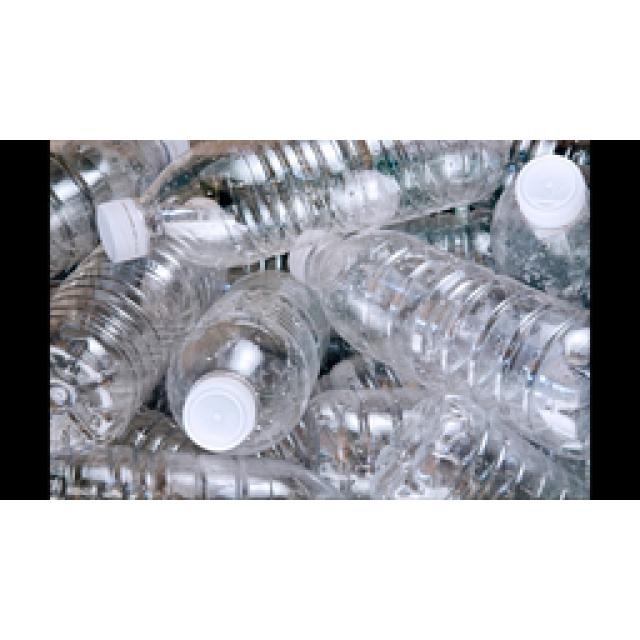plastic_water_bottles: (174, 287, 318, 448), (95, 168, 302, 267)
